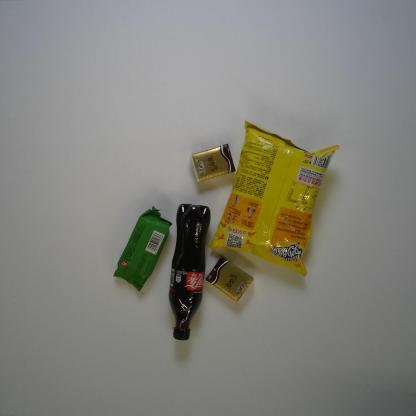Dessert: (112, 204, 174, 294)
Drink: (167, 202, 211, 342)
Puffed Food: (208, 119, 340, 279)
Tissue: (205, 254, 255, 303), (189, 142, 237, 184)
